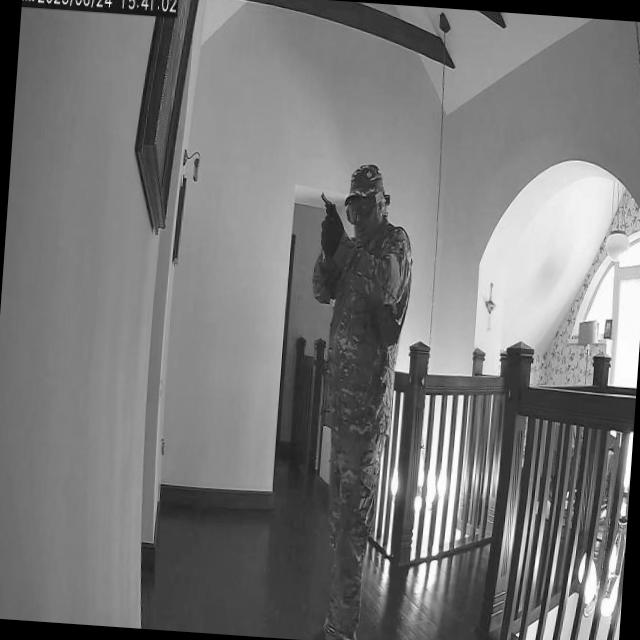gun: (314, 189, 344, 230)
person with a gun: (285, 159, 419, 640)
